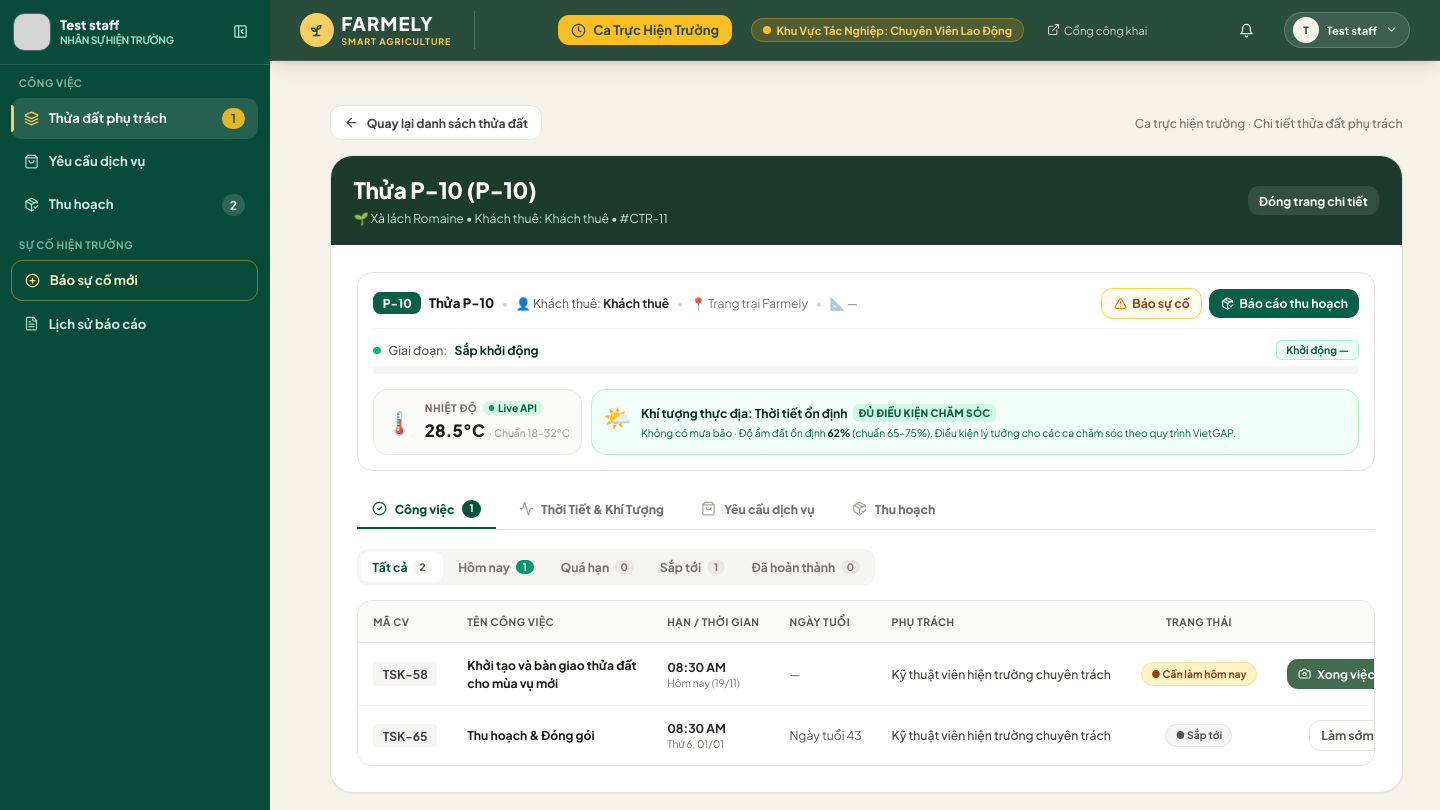
Scenario: FieldWorkerDashboard plot modal › does not auto-complete PENDING harvest task from legacy fake harvest seed, keeps handover task in Today, and notifies customer on completion
The width and height of the screenshot is (1440, 810).
Later steps or results of the test are not shown.
Click the button "Hôm nay 1" at (496, 567), box [447,552,546,582]
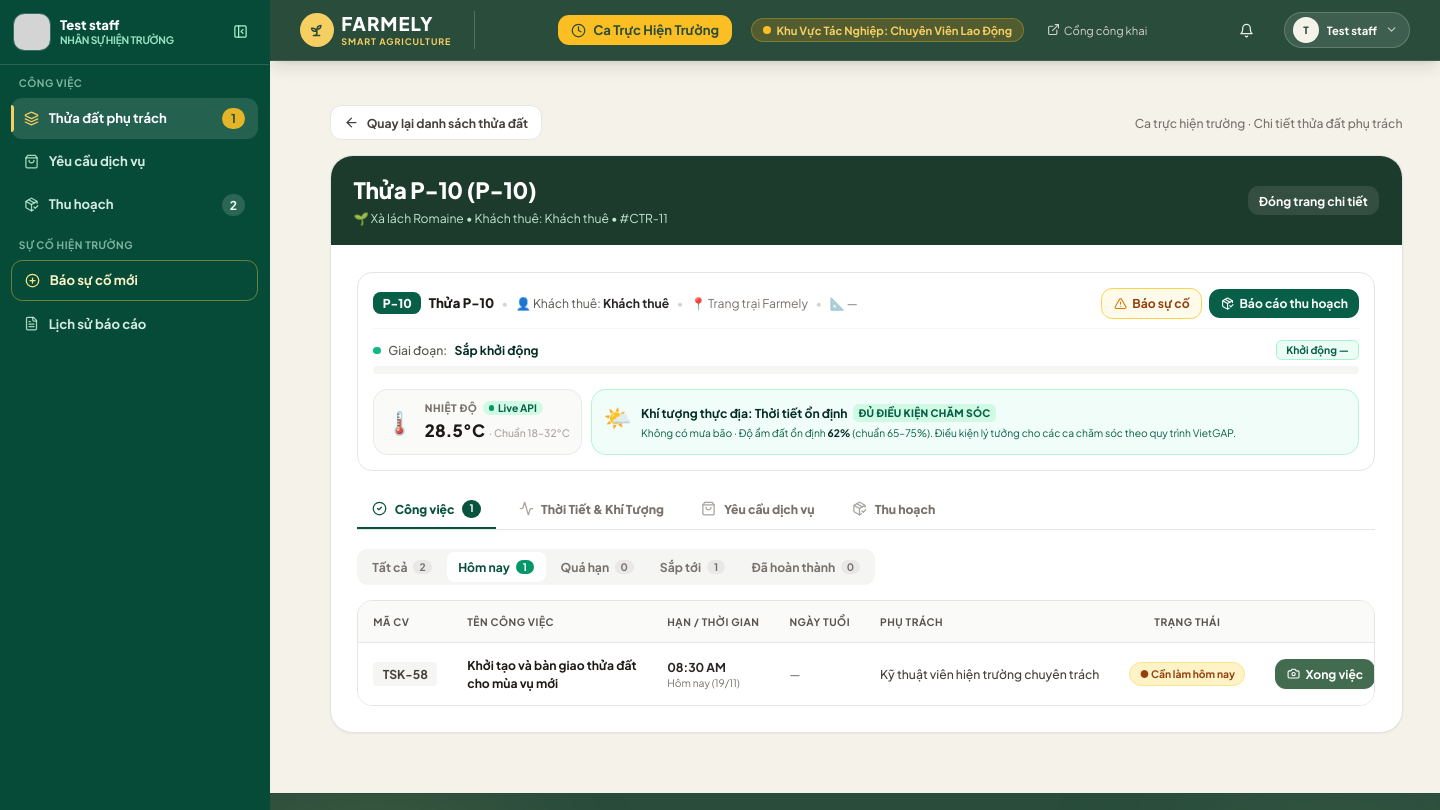
Expected: the text "Khởi tạo và bàn giao thửa đất cho mùa vụ mới" is shown, [467,656,637,692]
Click the button "Xong việc" at (1325, 674), box [1275,659,1374,689]
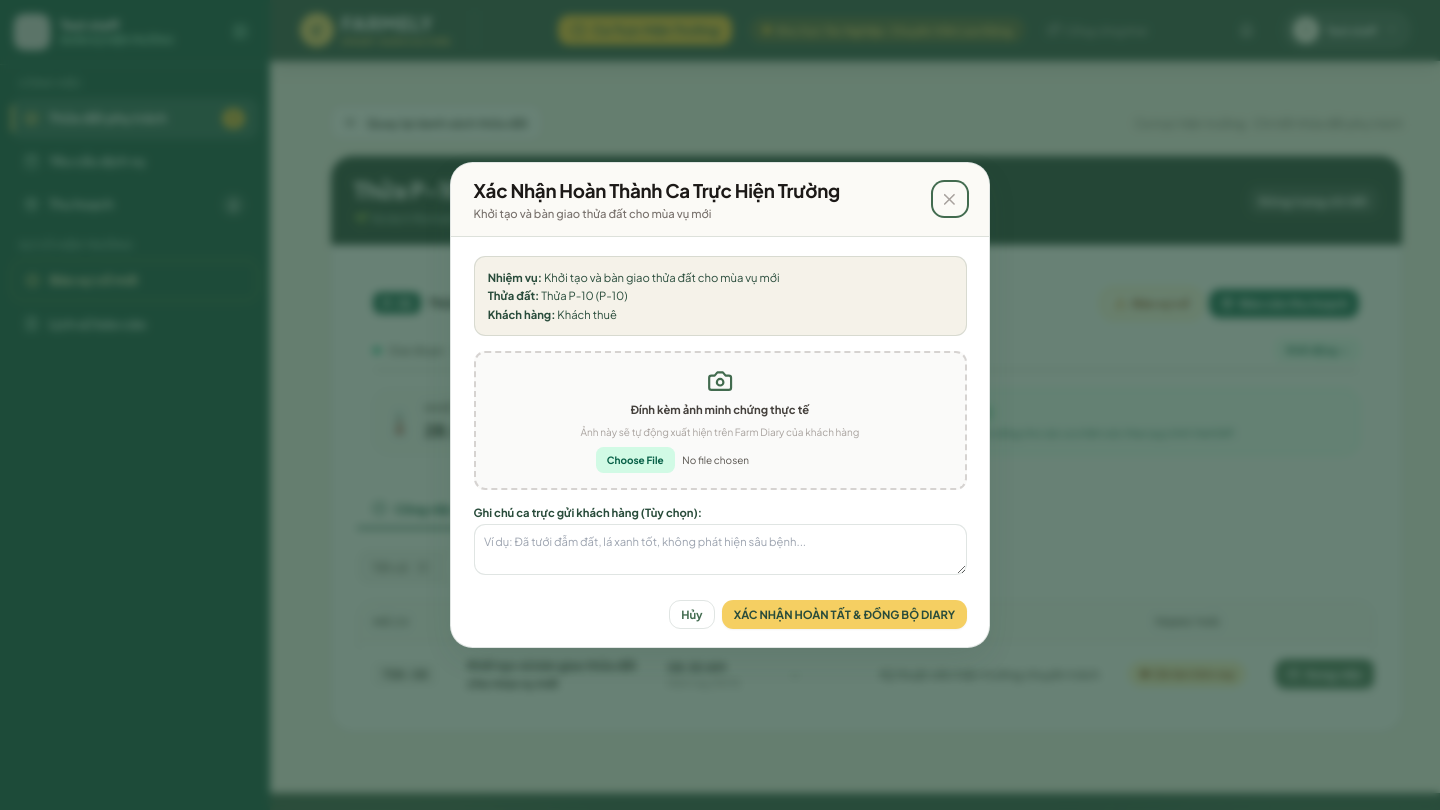
Expected: the text box is shown, [474,524,966,575]
Expected: the file field is shown, [596,447,844,473]
